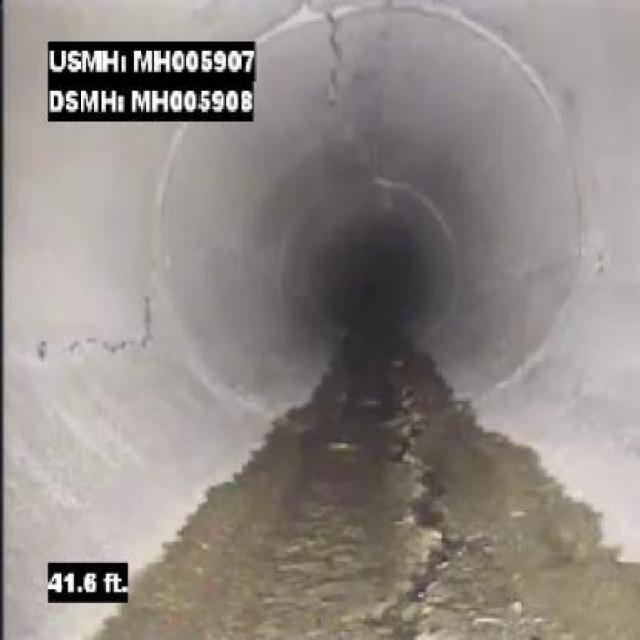Buckling: (380, 432, 488, 620)
Crack: (305, 3, 383, 108), (32, 315, 156, 360)
